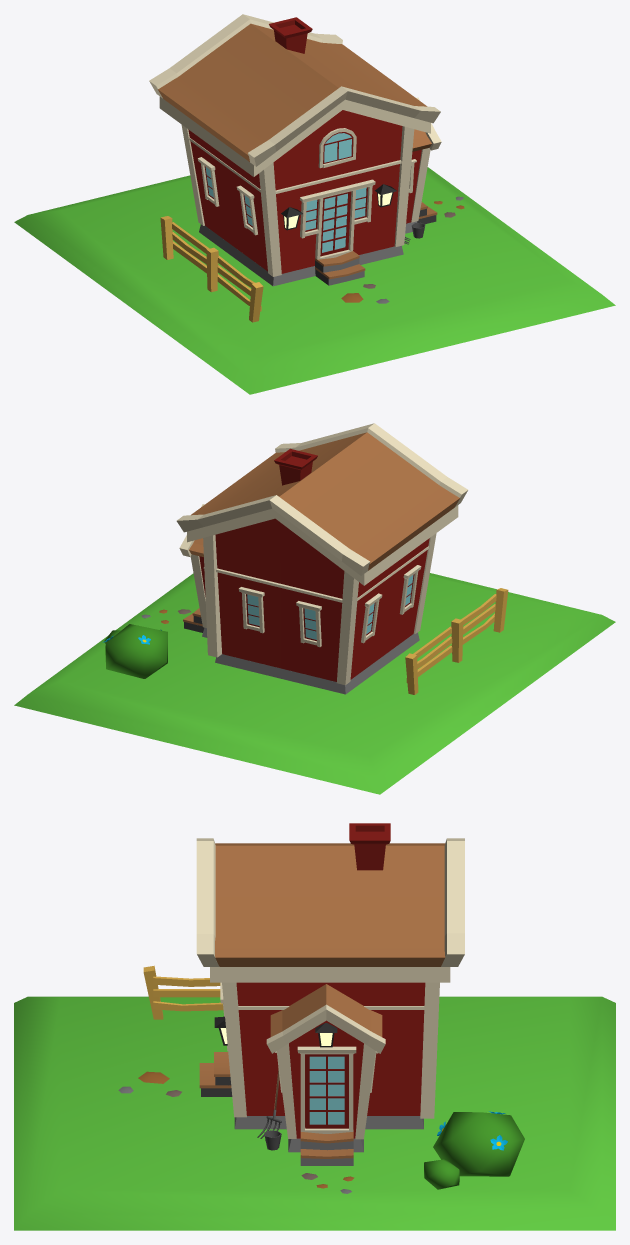
File: Farmhouse.fbx
The picture shows the model from 3 angles, top to bottom: view 1: azimuth 30°, elevation 25°; view 2: azimuth 150°, elevation 25°; view 3: azimuth 270°, elevation 25°; orthographic projection. The views are drawn at different scales.
Parts seen in each view (by area): view 1: Lawn, House_020, House_001, House_005, House_002, House_017, House_007, House_006, Windows_061, House_032, House_016, House_008 (+2 smaller); view 2: Lawn, House_001, House_020, House_005, House_002, Bush_001, House_017, House_009, House_008, House_032, House_016, House_007 (+1 smaller); view 3: Lawn, House_020, House_001, House_005, Bush_001, House_002, House_021, House_003, Windows_069, House_009, House_004, House_006 (+9 smaller).
Boxes of the visible parts, x1,y1,x2,y2 form: Lawn: (14, 167, 615, 394); House_020: (158, 23, 427, 161); House_001: (188, 110, 402, 273); House_005: (149, 14, 440, 166); House_002: (159, 96, 430, 176); House_017: (199, 224, 403, 286); House_007: (259, 162, 281, 276); House_006: (394, 126, 414, 247); Windows_061: (322, 193, 347, 252); House_032: (269, 17, 312, 53); House_016: (189, 137, 401, 193); House_008: (181, 124, 204, 225); Lawn: (14, 573, 615, 794); House_001: (215, 518, 429, 681); House_020: (191, 432, 459, 570); House_005: (176, 423, 467, 575); House_002: (187, 505, 458, 585); Bush_001: (105, 624, 167, 678); House_017: (215, 632, 419, 694); House_009: (203, 535, 221, 657); House_008: (336, 571, 358, 685); House_032: (274, 448, 317, 485); House_016: (216, 546, 428, 602); House_007: (413, 533, 436, 633); Lawn: (14, 996, 615, 1230); House_020: (215, 843, 445, 966); House_001: (236, 982, 425, 1115); House_005: (196, 838, 464, 966); Bush_001: (433, 1112, 524, 1176); House_002: (210, 967, 450, 982); House_021: (270, 984, 382, 1036); House_003: (289, 1020, 363, 1138); Windows_069: (309, 1056, 344, 1124); House_009: (420, 982, 439, 1118); House_004: (266, 1004, 385, 1053); House_006: (222, 982, 246, 1117).
Bounding box in the file's own units: 584 × 338 × 652.
